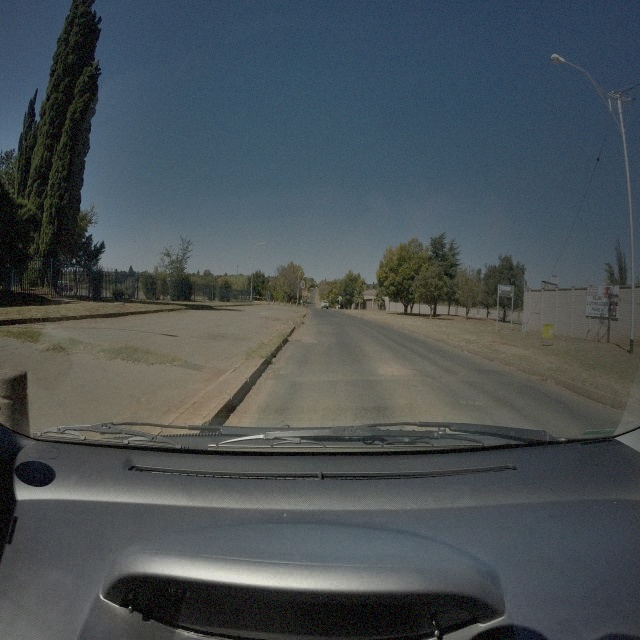pothole: (381, 366, 421, 377), (300, 336, 318, 345)
